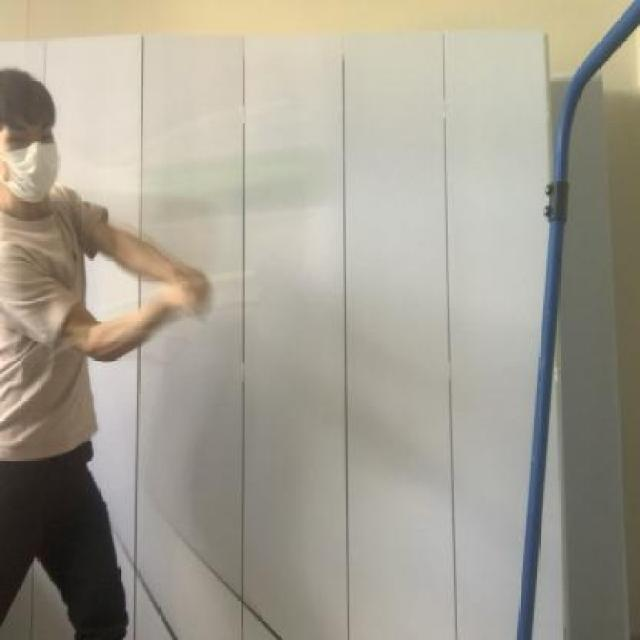baseball: (144, 136, 333, 227)
